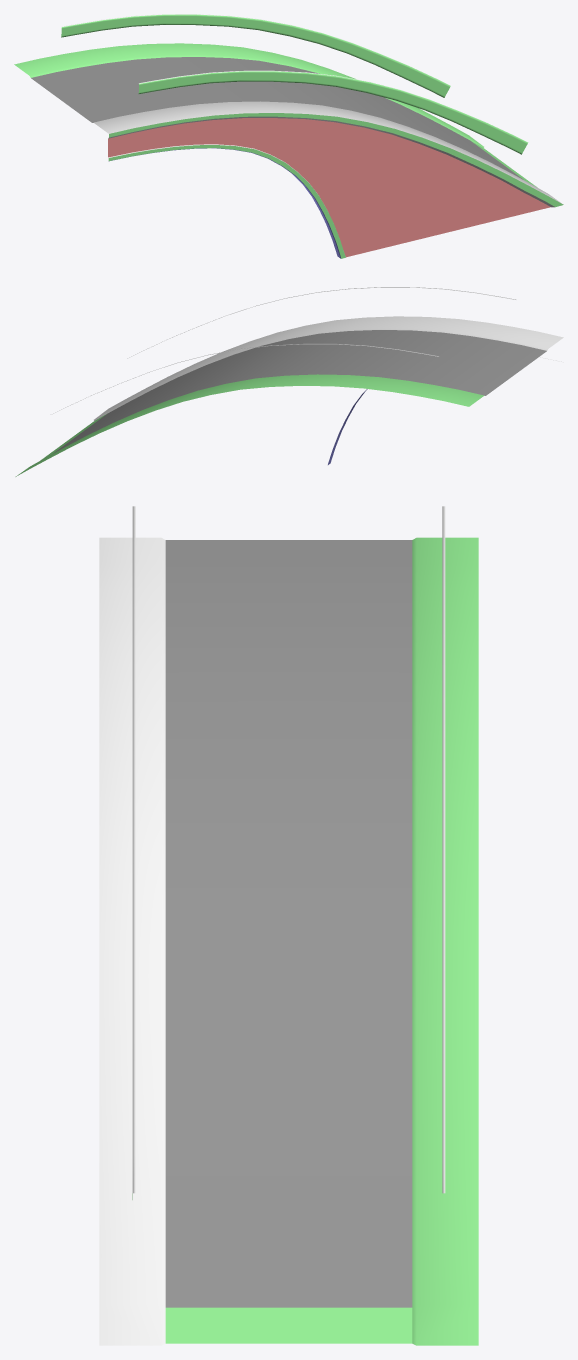
The model's file is CHN_GoalBridge01.gltf.
The picture shows the model from 3 angles, top to bottom: view 1: azimuth 30°, elevation 25°; view 2: azimuth 150°, elevation 25°; view 3: azimuth 270°, elevation 25°; orthographic projection. The views are drawn at different scales.
Parts seen in each view (by area): view 1: CHN_GoalBridge01; view 2: CHN_GoalBridge01; view 3: CHN_GoalBridge01.
Boxes of the visible parts, box(x1,y1,x2,y2) form: CHN_GoalBridge01: box(14, 14, 563, 258); CHN_GoalBridge01: box(15, 287, 563, 476); CHN_GoalBridge01: box(99, 506, 478, 1345).
Bounding box in the file's own units: 25.86 × 11.77 × 9.34.
